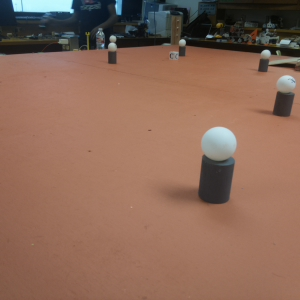obstacle: (200, 127, 233, 203), (274, 76, 294, 116), (261, 51, 270, 71), (107, 44, 116, 61), (177, 38, 184, 54)
